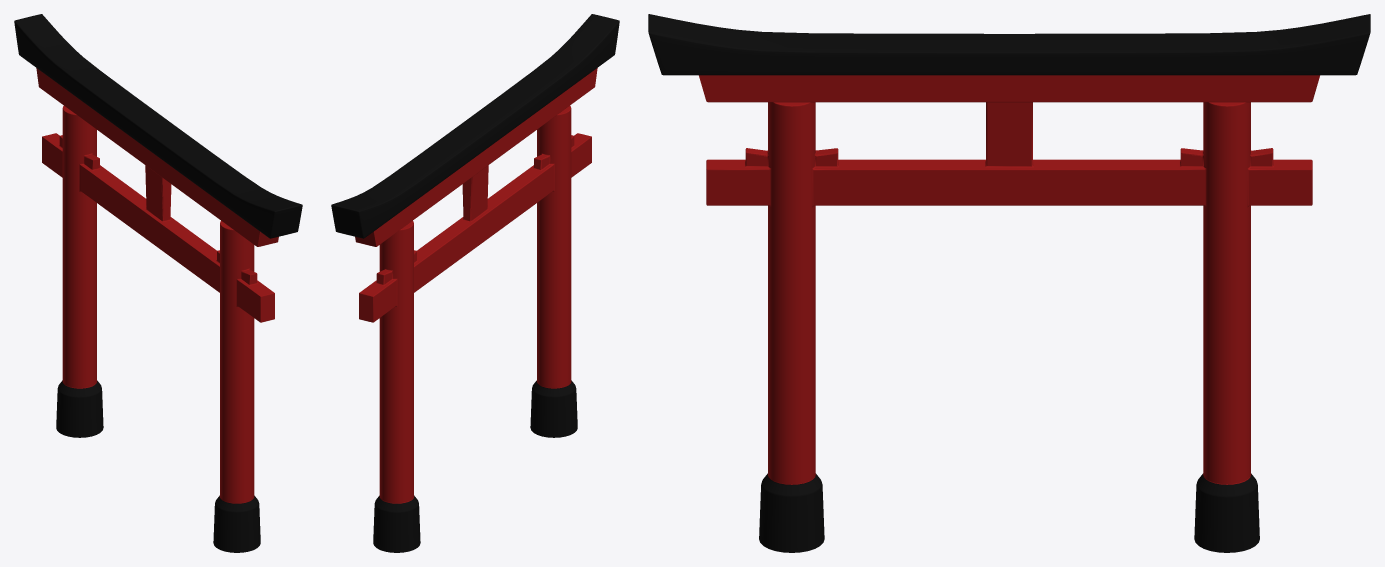
File: torii.fbx
3 views of the same model, side by side, from view 1: azimuth 30°, elevation 25°; view 2: azimuth 150°, elevation 25°; view 3: azimuth 270°, elevation 25° (orthographic). The views are drawn at different scales.
Parts seen in each view (by area): view 1: gate, cap; view 2: gate, cap; view 3: gate, cap.
Boxes of the visible parts, bbox=[...] form: gate: bbox=[36, 68, 278, 552]; cap: bbox=[14, 14, 302, 238]; gate: bbox=[355, 68, 597, 552]; cap: bbox=[331, 14, 619, 238]; gate: bbox=[699, 75, 1319, 552]; cap: bbox=[648, 14, 1370, 75].
Size of the model in its own units: 105 by 913 by 1159.
